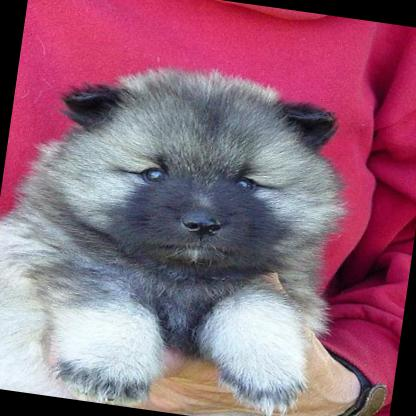keeshond: (0, 41, 364, 416)
